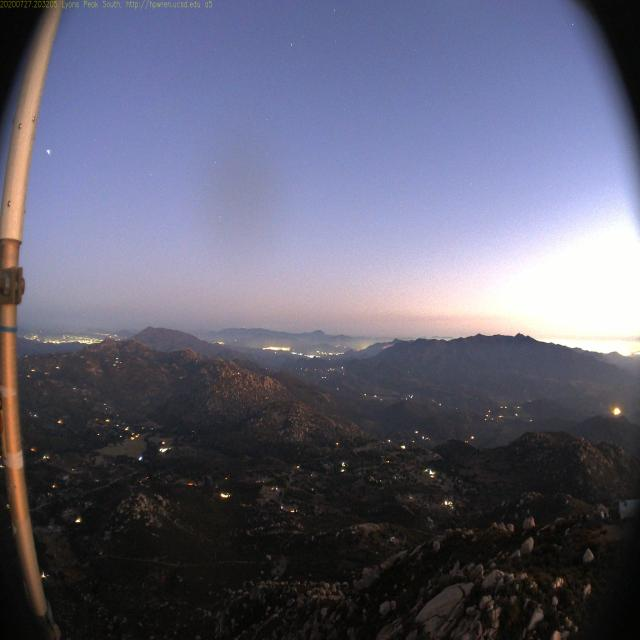smoke: (378, 340, 394, 350)
